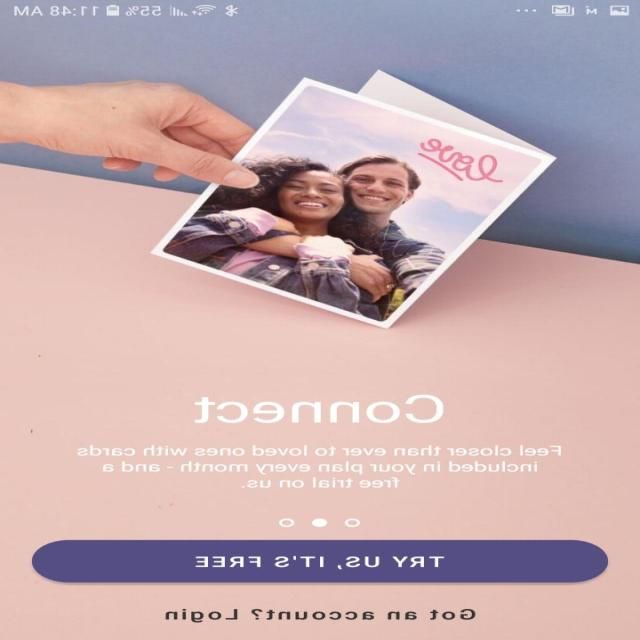BackgroundImage: (1, 18, 640, 640)
Image: (1, 69, 559, 330)
Text: (77, 444, 562, 488), (194, 394, 446, 424), (166, 608, 477, 623)
TextButton: (32, 539, 609, 583)
